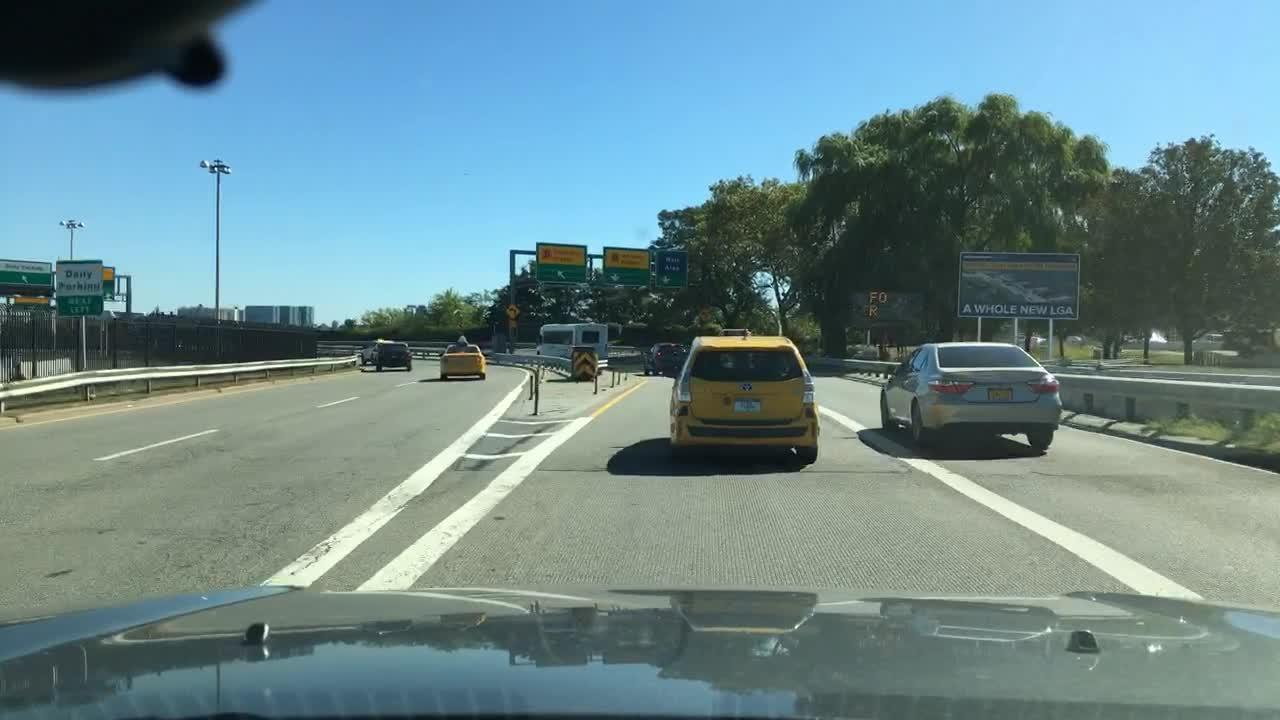Toyota: (737, 378, 758, 397)
